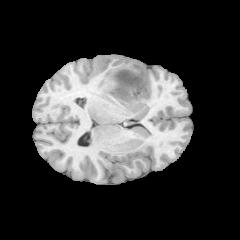glioma: (102, 63, 151, 105)
